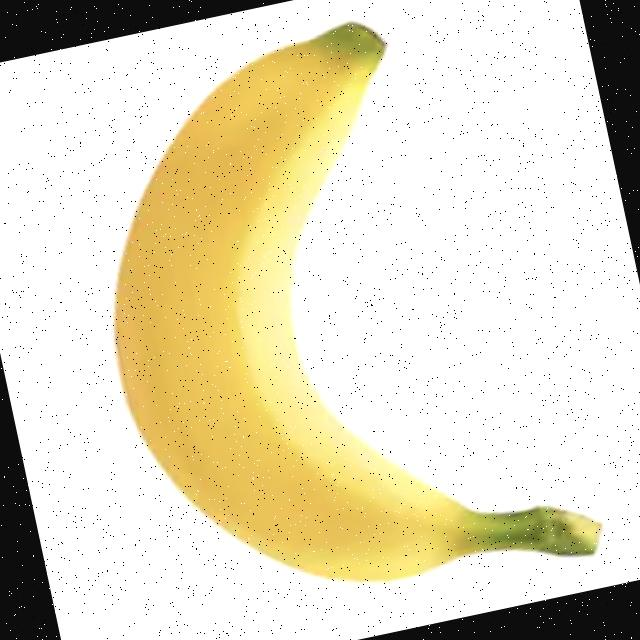Ripe: (52, 0, 569, 631)
